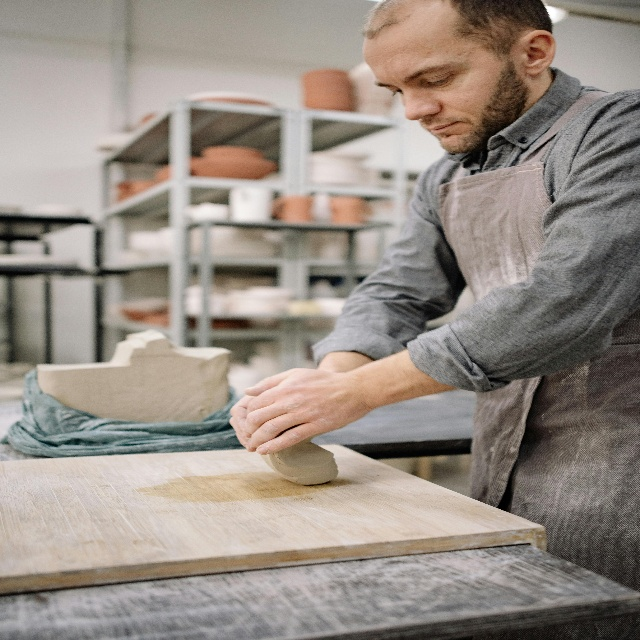Sin_guantes: (244, 367, 366, 456)
